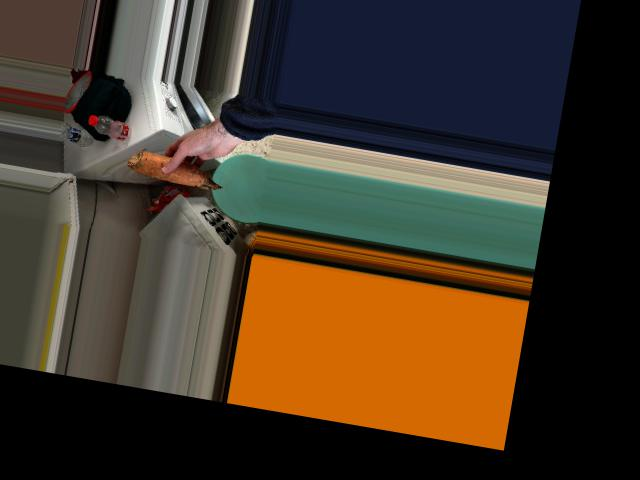sweet_potato: (128, 148, 225, 199)
